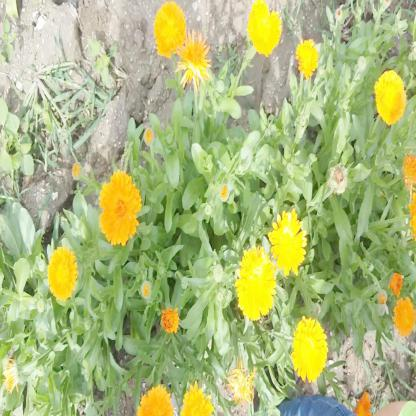marigold: (100, 170, 138, 243), (238, 249, 276, 321), (271, 207, 306, 276), (292, 319, 330, 379), (173, 31, 211, 90), (153, 3, 187, 57), (375, 68, 405, 126), (249, 5, 281, 55), (49, 247, 76, 302), (138, 387, 175, 416), (297, 39, 321, 79), (178, 385, 212, 411), (158, 303, 179, 334), (395, 300, 414, 333)
